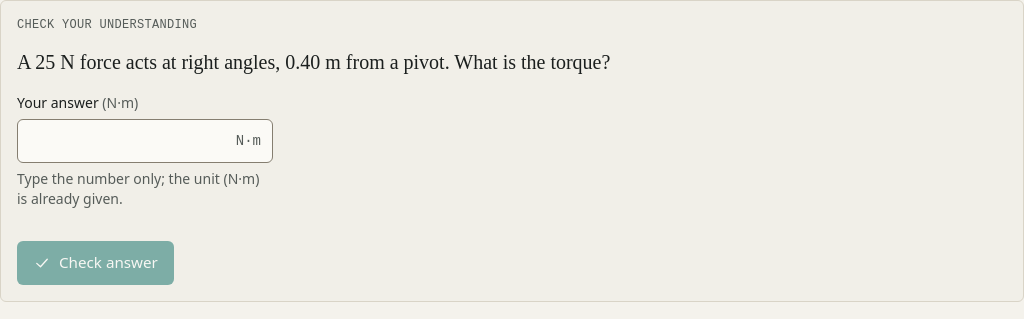
Test: PracticeItem › does not use a try on an unreadable number
Type "10 N" into the field labelled "Your answer (N·m)".
click(145, 140); type("10 N")  # box x1=17 y1=118 x2=273 y2=162
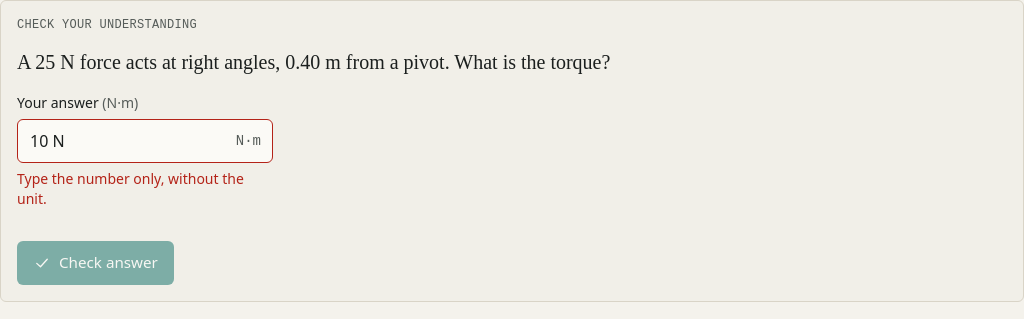
expect the button "Check answer" is disabled: met, box x1=17 y1=240 x2=174 y2=284
expect the text "Type the number only, without the unit." is shown: met, box x1=17 y1=168 x2=273 y2=208
